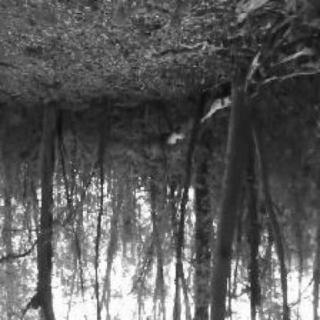other: (158, 96, 230, 152)
